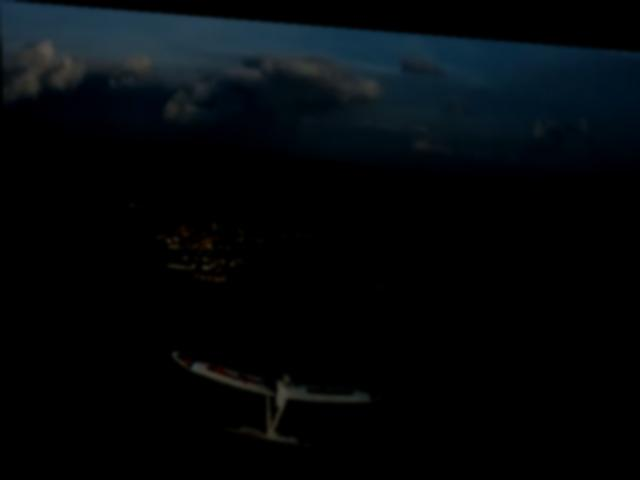iha: (171, 349, 385, 447)
